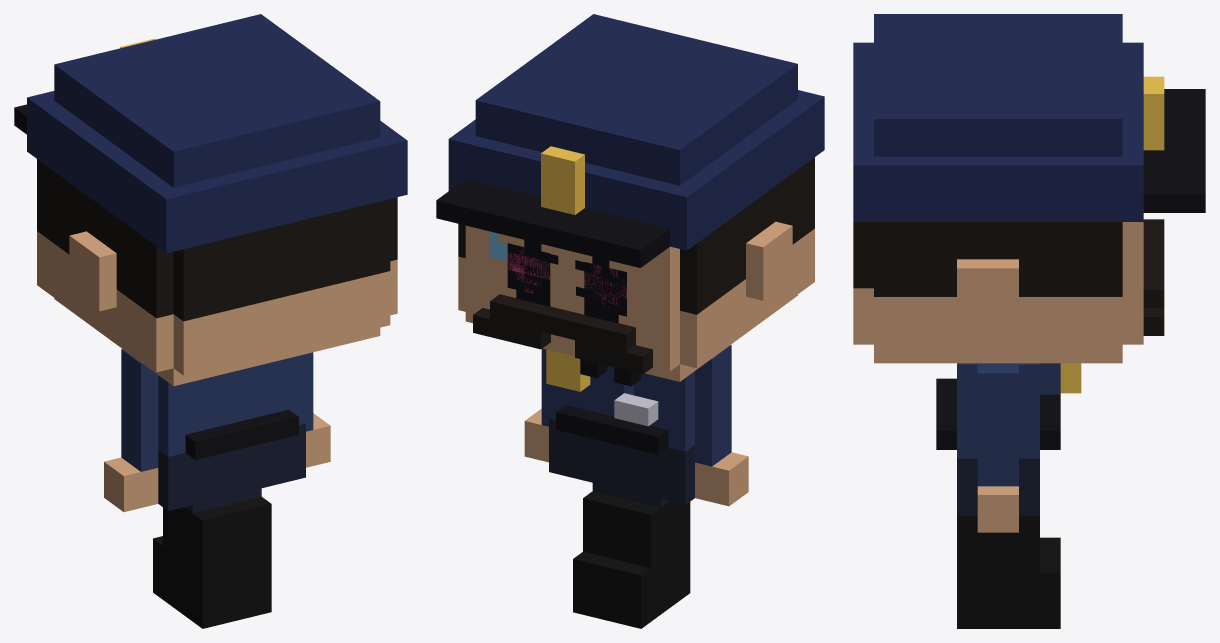
File: personaje_guardia_baile.obj
3 renders of one model, left to right at view 1: azimuth 30°, elevation 25°; view 2: azimuth 150°, elevation 25°; view 3: azimuth 270°, elevation 25°, orthographic. The views are drawn at different scales.
Parts seen in each view (by area): view 1: gorra, pelo, cabeza, torso, falda, bota_izq, torso_cincho, orejas, bota_der, mano_izq, manga_izq, suela_izq (+6 smaller); view 2: gorra, cabeza, gorra_visera, pelo, bigote, falda, bota_izq, torso, cara_feliz_ojos, orejas, torso_cincho, bota_der (+17 smaller); view 3: gorra, cabeza, pelo, bota_der, gorra_visera, torso, orejas, torso_cincho, bigote, falda, manga_der, suela_der (+7 smaller).
Part boxes in pixels (x1=…): gorra: x1=27, y1=14, x2=407, y2=253; pelo: x1=37, y1=159, x2=397, y2=321; cabeza: x1=37, y1=231, x2=397, y2=386; torso: x1=158, y1=354, x2=305, y2=456; falda: x1=158, y1=423, x2=305, y2=510; bota_izq: x1=153, y1=510, x2=237, y2=610; torso_cincho: x1=185, y1=409, x2=298, y2=459; orejas: x1=69, y1=231, x2=116, y2=311; bota_der: x1=237, y1=522, x2=271, y2=602; mano_izq: x1=104, y1=457, x2=158, y2=511; manga_izq: x1=121, y1=385, x2=158, y2=453; suela_izq: x1=153, y1=575, x2=237, y2=628; gorra: x1=448, y1=14, x2=824, y2=250; cabeza: x1=458, y1=225, x2=814, y2=381; gorra_visera: x1=436, y1=179, x2=669, y2=267; pelo: x1=458, y1=157, x2=814, y2=314; bigote: x1=473, y1=294, x2=652, y2=374; falda: x1=549, y1=418, x2=694, y2=504; bota_izq: x1=607, y1=504, x2=690, y2=610; torso: x1=549, y1=371, x2=694, y2=451; cara_feliz_ojos: x1=516, y1=245, x2=618, y2=323; orejas: x1=746, y1=221, x2=792, y2=300; torso_cincho: x1=556, y1=405, x2=668, y2=454; bota_der: x1=573, y1=516, x2=616, y2=602; gorra: x1=853, y1=14, x2=1143, y2=221; cabeza: x1=853, y1=222, x2=1143, y2=363; pelo: x1=853, y1=222, x2=1122, y2=296; bota_der: x1=957, y1=535, x2=1060, y2=610; gorra_visera: x1=1143, y1=89, x2=1205, y2=212; torso: x1=957, y1=363, x2=1039, y2=458; orejas: x1=957, y1=259, x2=1018, y2=324; torso_cincho: x1=936, y1=378, x2=1060, y2=449; bigote: x1=1143, y1=219, x2=1164, y2=335; falda: x1=957, y1=458, x2=1039, y2=514; manga_der: x1=977, y1=411, x2=1018, y2=467; suela_der: x1=957, y1=610, x2=1060, y2=628.
Size of the model in its own units: 0.64 by 1.16 by 0.68.
